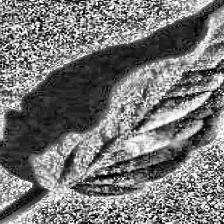leaf mold: (27, 0, 224, 194)
